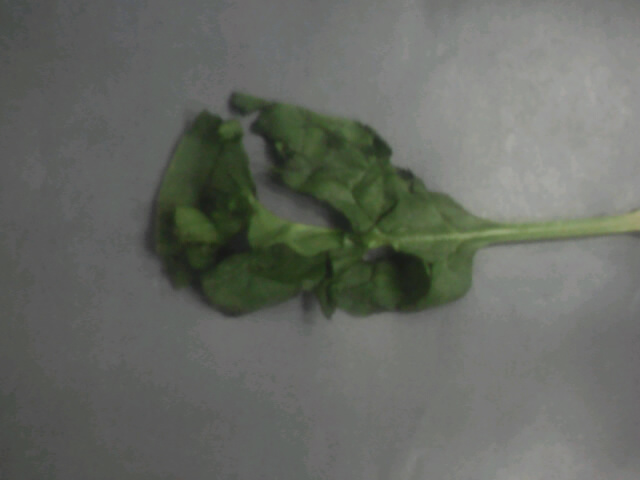yellow: (73, 85, 552, 331)
